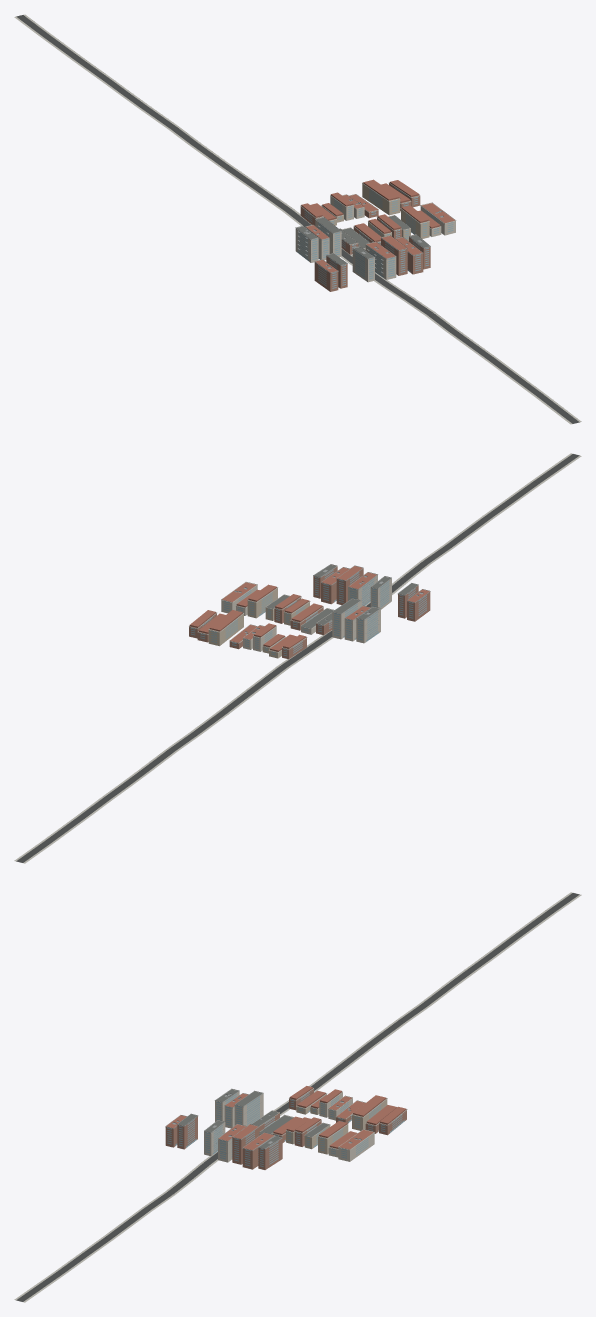
Rendered from tile-m003-m001.glb.
3 views of the same model, one above another, from view 1: azimuth 30°, elevation 25°; view 2: azimuth 150°, elevation 25°; view 3: azimuth 330°, elevation 25° (orthographic).
Visible parts, largest first — view 1: road-v-1-mesh-1, road-v-1-mesh-0, building-0185-mesh-149; view 2: road-v-1-mesh-1, road-v-1-mesh-0; view 3: road-v-1-mesh-1, road-v-1-mesh-0, building-0033-mesh-34.
Part boxes in pixels (x1,y1,x2,y2): road-v-1-mesh-1: [16, 15, 579, 423]; road-v-1-mesh-0: [14, 14, 581, 424]; building-0185-mesh-149: [362, 183, 400, 215]; road-v-1-mesh-1: [16, 454, 579, 862]; road-v-1-mesh-0: [14, 453, 581, 863]; road-v-1-mesh-1: [16, 893, 579, 1301]; road-v-1-mesh-0: [14, 892, 581, 1302]; building-0033-mesh-34: [234, 1093, 263, 1125].
Size of the model in its own units: 260 by 40.75 by 1600.
